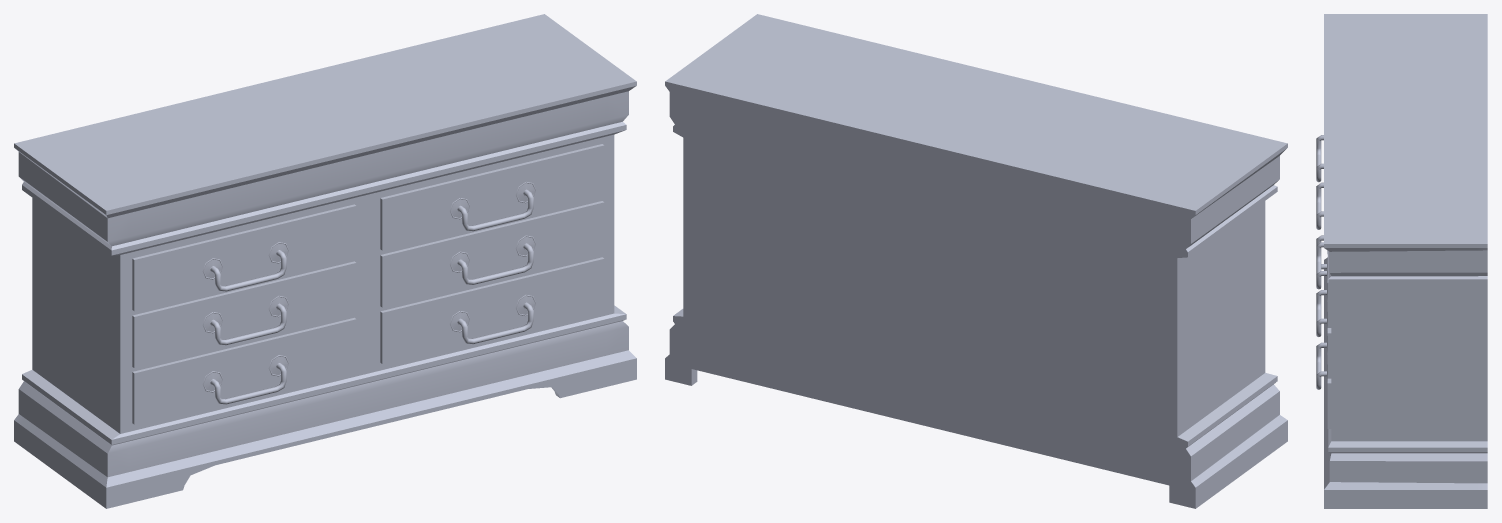
The model's file is Drawer.FBX.
3 renders of one model, left to right at view 1: azimuth 30°, elevation 25°; view 2: azimuth 150°, elevation 25°; view 3: azimuth 270°, elevation 25°, orthographic. The views are drawn at different scales.
Parts seen in each view (by area): view 1: Drawer; view 2: Drawer; view 3: Drawer.
Part boxes in pixels (left/top/right/bottom): Drawer: left=14, top=14, right=636, bottom=508; Drawer: left=665, top=14, right=1287, bottom=508; Drawer: left=1316, top=14, right=1487, bottom=508.
Bounding box in the file's own units: 483 × 152 × 259.
